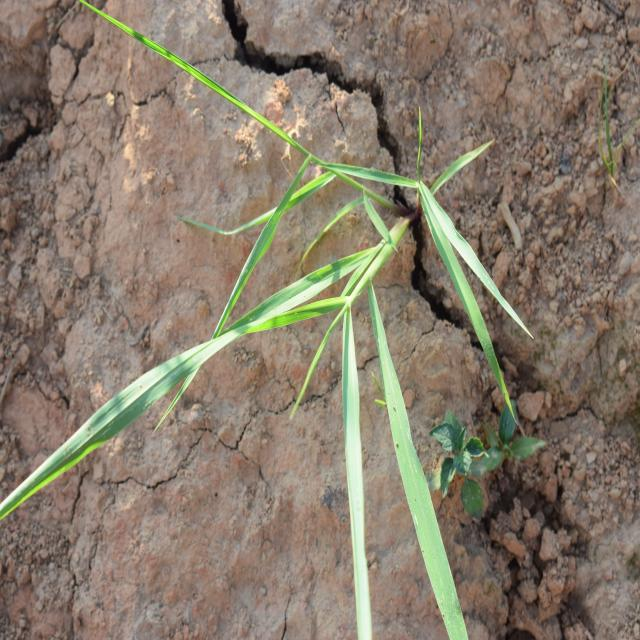green_foxtail: (121, 120, 497, 561)
